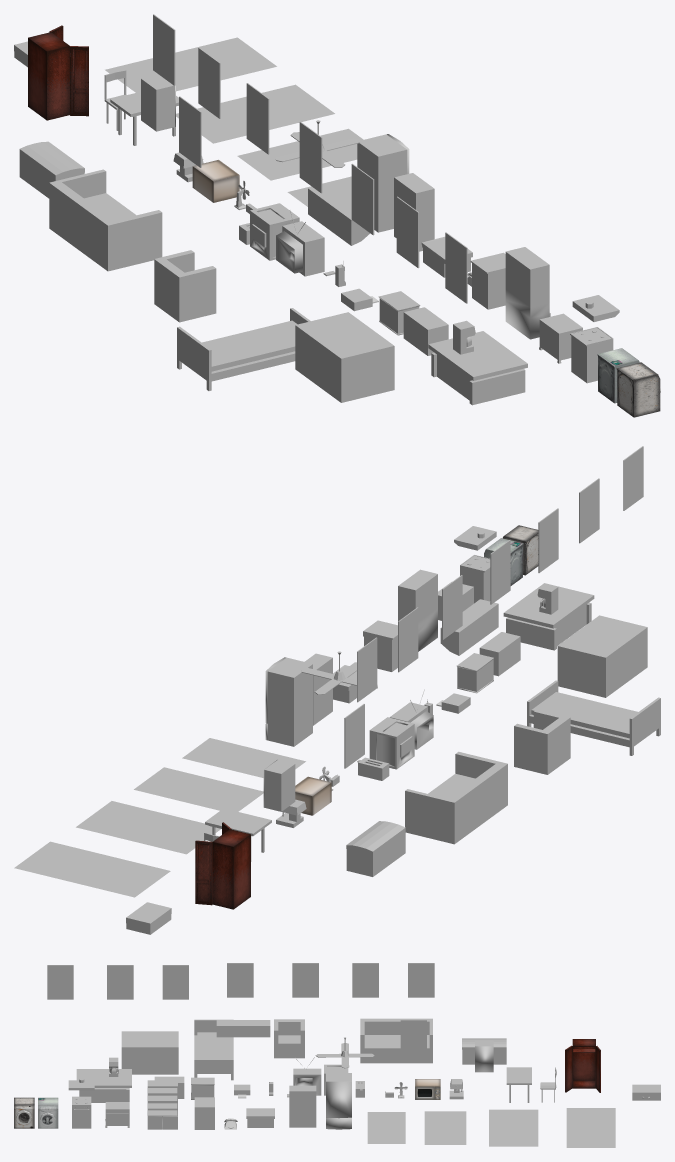
Rendered from PSX - Home Furniture.fbx.
The picture shows the model from 3 angles, top to bottom: view 1: azimuth 30°, elevation 25°; view 2: azimuth 150°, elevation 25°; view 3: azimuth 270°, elevation 25°; orthographic projection. The views are drawn at different scales.
Visible parts, largest first — view 1: Double Couch, Bed, Coffe Table, Deep Freezer, Couch, Carpet, Carpet.003, Work Shelf Cabinet, Wooden Wardrobe, Deep Freezer Door, Fridge, Carpet.002 (+28 smaller); view 2: Double Couch, Bed, Carpet.003, Carpet, Fridge, Coffe Table, Deep Freezer, Carpet.002, Couch, Wooden Wardrobe, Deep Freezer Door, Carpet.001 (+26 smaller); view 3: Double Couch, Carpet.003, Bed, Carpet, Carpet.002, Deep Freezer, Coffe Table, Carpet.001, Couch, Bookshelf, Wooden Wardrobe, Deep Freezer Door (+27 smaller).
Boxes of the visible parts, x1,y1,x2,y2 form: Double Couch: (49,169,162,271); Bed: (177,308,310,390); Coffe Table: (428,331,527,405); Deep Freezer: (295,330,394,402); Couch: (154,250,216,322); Carpet: (176,84,334,143); Carpet.003: (105,37,276,92); Work Shelf Cabinet: (505,247,549,339); Wooden Wardrobe: (28,32,69,120); Deep Freezer Door: (295,312,394,363); Fridge: (357,134,407,232); Carpet.002: (237,128,363,180); Double Couch: (405,751,507,844); Bed: (527,680,660,755); Carpet.003: (14,841,170,897); Carpet: (76,801,220,854); Fridge: (267,657,312,746); Coffe Table: (503,583,594,650); Deep Freezer: (557,632,647,697); Carpet.002: (134,767,263,811); Couch: (514,709,570,774); Wooden Wardrobe: (212,829,250,909); Deep Freezer Door: (557,615,647,662); Carpet.001: (182,738,305,777); Double Couch: (360,1018,432,1063); Carpet.003: (566,1108,615,1147); Bed: (194,1019,233,1080); Carpet: (489,1109,538,1146); Carpet.002: (424,1111,466,1144); Deep Freezer: (121,1050,178,1074); Coffe Table: (76,1069,131,1101); Carpet.001: (367,1112,405,1143); Couch: (274,1019,304,1058); Bookshelf: (289,1085,316,1127); Wooden Wardrobe: (572,1039,595,1088); Deep Freezer Door: (121,1031,178,1050).
Bounding box in the file's own units: 1393 × 725 × 3418.
